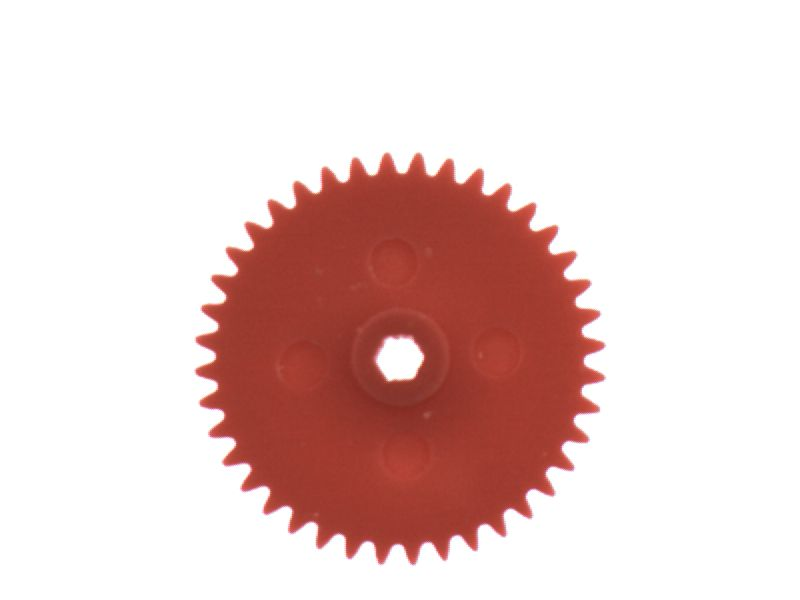good_product: (178, 144, 626, 572)
